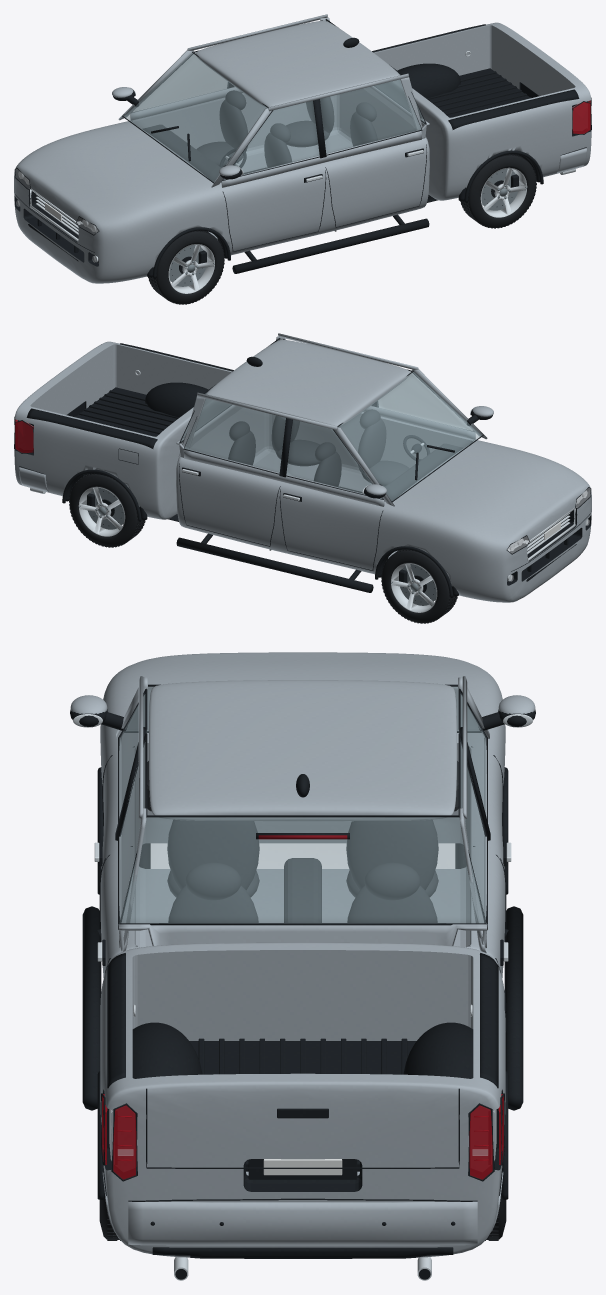
File: pickup.glb
The picture shows the model from 3 angles, top to bottom: view 1: azimuth 30°, elevation 25°; view 2: azimuth 150°, elevation 25°; view 3: azimuth 270°, elevation 25°; orthographic projection. The views are drawn at different scales.
Parts seen in each view (by area): view 1: Separate 14-station pickup cab, Separate 14-station cargo bed, Crowned roof pressing, Pickup windshield, Pickup rear door glass, Pickup front door glass, Pickup front door glass.001, 107 reused Sculpted_tyre.002, 107 reused Sculpted_tyre, Crew cab step rail, Pickup continuous painted glazing sill, Cargo bed liner (+26 smaller); view 2: Separate 14-station pickup cab, Separate 14-station cargo bed, Crowned roof pressing, Pickup windshield, Pickup rear door glass.001, Pickup front door glass.001, Pickup front door glass, 107 reused Sculpted_tyre.003, 107 reused Sculpted_tyre.001, Crew cab step rail.001, Pickup continuous painted glazing sill.001, Cargo bed liner (+26 smaller); view 3: Separate 14-station cargo bed, Crowned roof pressing, Separate 14-station pickup cab, Pickup rear cab glass, Formed painted rear bumper cover, Continuous painted rear cab bulkhead, Cargo bed liner, Contoured seat back, Contoured seat back.001, Crew cab step rail, Crew cab step rail.001, Sculpted rear lower bumper insert (+21 smaller).
Part boxes in pixels (left/top/right/bottom): Separate 14-station pickup cab: left=14, top=88, right=429, bottom=283; Separate 14-station cargo bed: left=373, top=22, right=591, bottom=200; Crowned roof pressing: left=195, top=20, right=399, bottom=107; Pickup windshield: left=124, top=53, right=267, bottom=181; Pickup rear door glass: left=320, top=79, right=421, bottom=153; Pickup front door glass: left=223, top=101, right=319, bottom=179; Pickup front door glass.001: left=132, top=52, right=228, bottom=112; 107 reused Sculpted_tyre.002: left=461, top=155, right=536, bottom=227; 107 reused Sculpted_tyre: left=149, top=230, right=224, bottom=304; Crew cab step rail: left=232, top=218, right=429, bottom=273; Pickup continuous painted glazing sill: left=221, top=129, right=421, bottom=187; Cargo bed liner: left=428, top=68, right=529, bottom=116; Separate 14-station pickup cab: left=176, top=407, right=591, bottom=602; Separate 14-station cargo bed: left=14, top=341, right=232, bottom=519; Crowned roof pressing: left=206, top=339, right=410, bottom=426; Pickup windshield: left=338, top=372, right=481, bottom=500; Pickup rear door glass.001: left=184, top=398, right=285, bottom=472; Pickup front door glass.001: left=286, top=420, right=382, bottom=498; Pickup front door glass: left=377, top=371, right=473, bottom=431; 107 reused Sculpted_tyre.003: left=69, top=474, right=145, bottom=547; 107 reused Sculpted_tyre.001: left=381, top=549, right=457, bottom=623; Crew cab step rail.001: left=176, top=537, right=373, bottom=592; Pickup continuous painted glazing sill.001: left=184, top=448, right=384, bottom=506; Cargo bed liner: left=76, top=387, right=177, bottom=435; Separate 14-station cargo bed: left=100, top=942, right=505, bottom=1257; Crowned roof pressing: left=148, top=680, right=457, bottom=821; Separate 14-station pickup cab: left=100, top=652, right=505, bottom=977; Pickup rear cab glass: left=119, top=817, right=486, bottom=923; Formed painted rear bumper cover: left=128, top=1201, right=477, bottom=1245; Continuous painted rear cab bulkhead: left=119, top=923, right=486, bottom=945; Cargo bed liner: left=189, top=1041, right=416, bottom=1171; Contoured seat back: left=167, top=819, right=259, bottom=889; Contoured seat back.001: left=346, top=819, right=438, bottom=889; Crew cab step rail: left=82, top=906, right=101, bottom=1110; Crew cab step rail.001: left=504, top=906, right=523, bottom=1110; Sculpted rear lower bumper insert: left=152, top=1247, right=453, bottom=1258.
Size of the model in its own units: 5.69 by 1.96 by 2.32.
10 materials, 10 textured.
